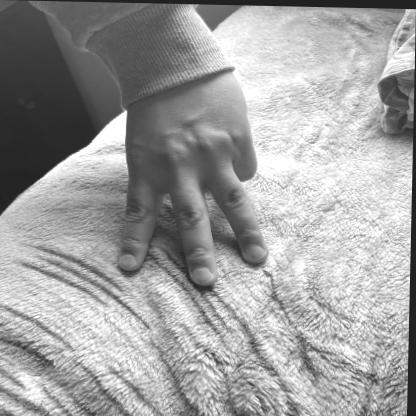M: (107, 37, 283, 288)
